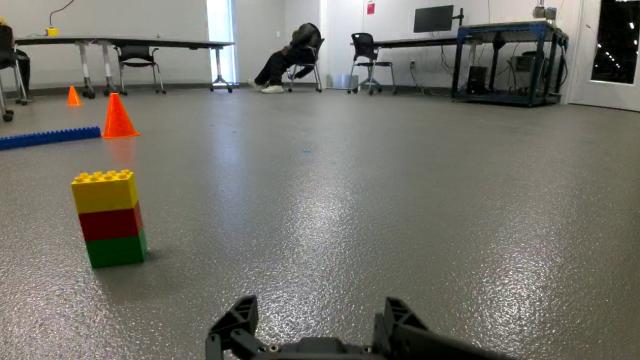lego: (50, 161, 176, 281)
